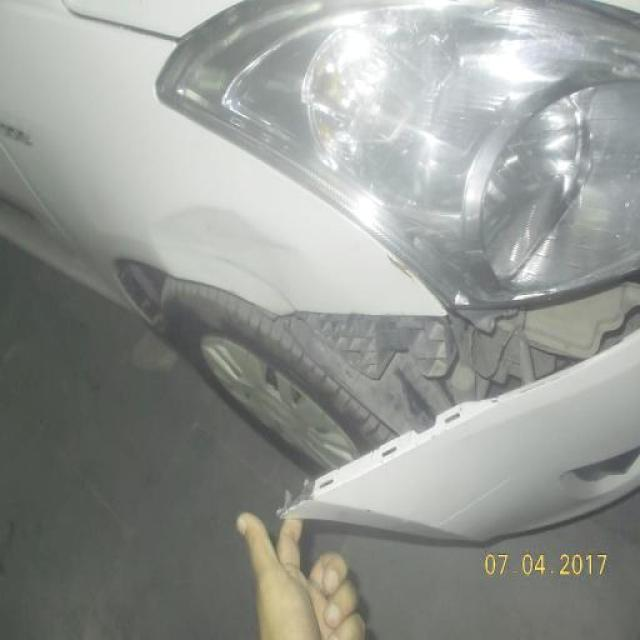car damage: (269, 270, 640, 513), (157, 202, 302, 311), (381, 249, 420, 285)
